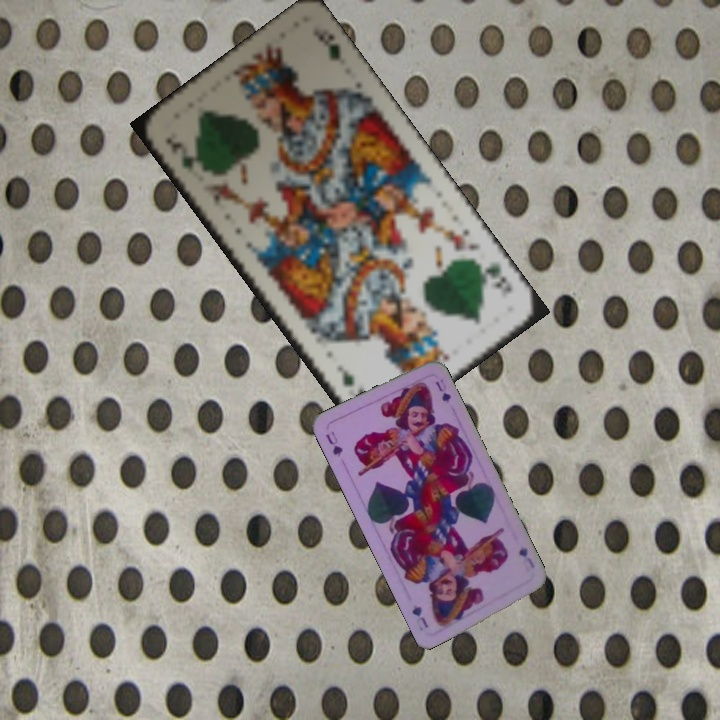GK: (160, 131, 205, 174), (473, 259, 515, 300)
GU: (321, 427, 346, 459), (515, 542, 538, 571)
